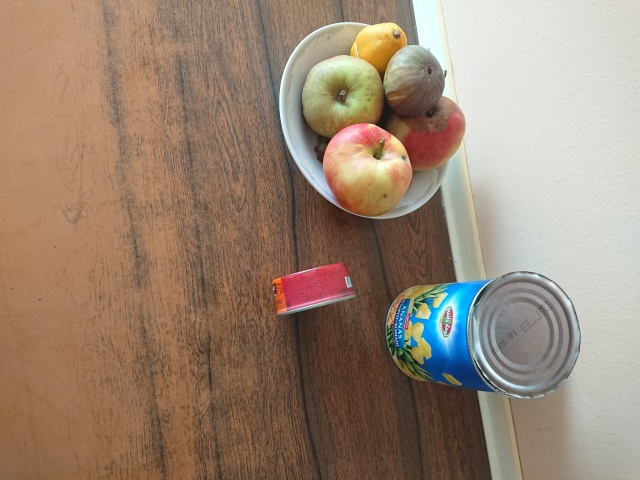Gavrilovic Pork Liver Pate 100g: (269, 260, 358, 317)
